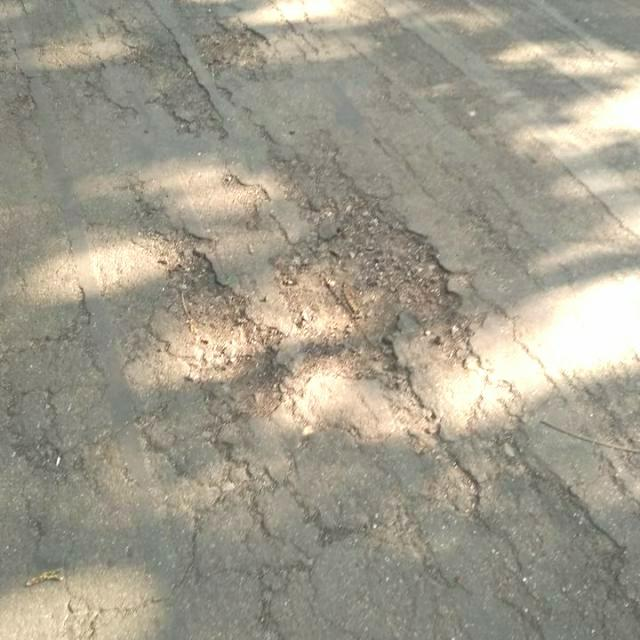Pothole: (281, 204, 483, 388), (165, 245, 292, 416), (198, 15, 271, 84)
